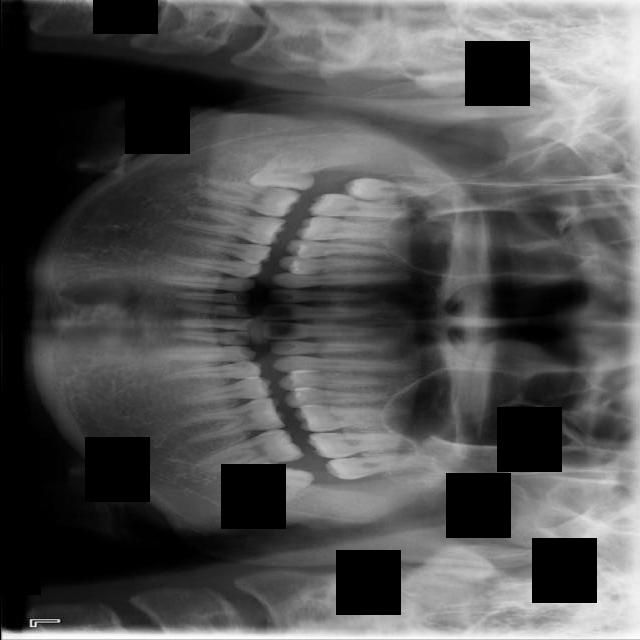3M ESPE Implant: (341, 174, 437, 202)
73: (58, 604, 72, 610)
BioHorizons Implant: (306, 432, 419, 458)
BioLife Implant: (323, 450, 436, 482)
Biomet 3i Implant: (240, 456, 315, 522)
Blue Sky Bio Implant: (192, 425, 303, 476)
Caries: (308, 192, 411, 221)
Implant: (193, 175, 301, 221)
Keystone Dental Implant: (248, 147, 315, 191)
